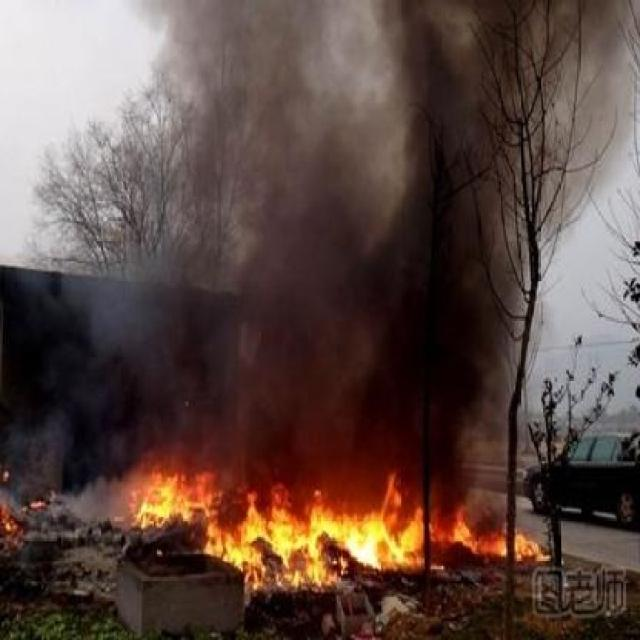Fire: (124, 472, 560, 596), (4, 466, 55, 561)
Smoke: (183, 0, 633, 473)
